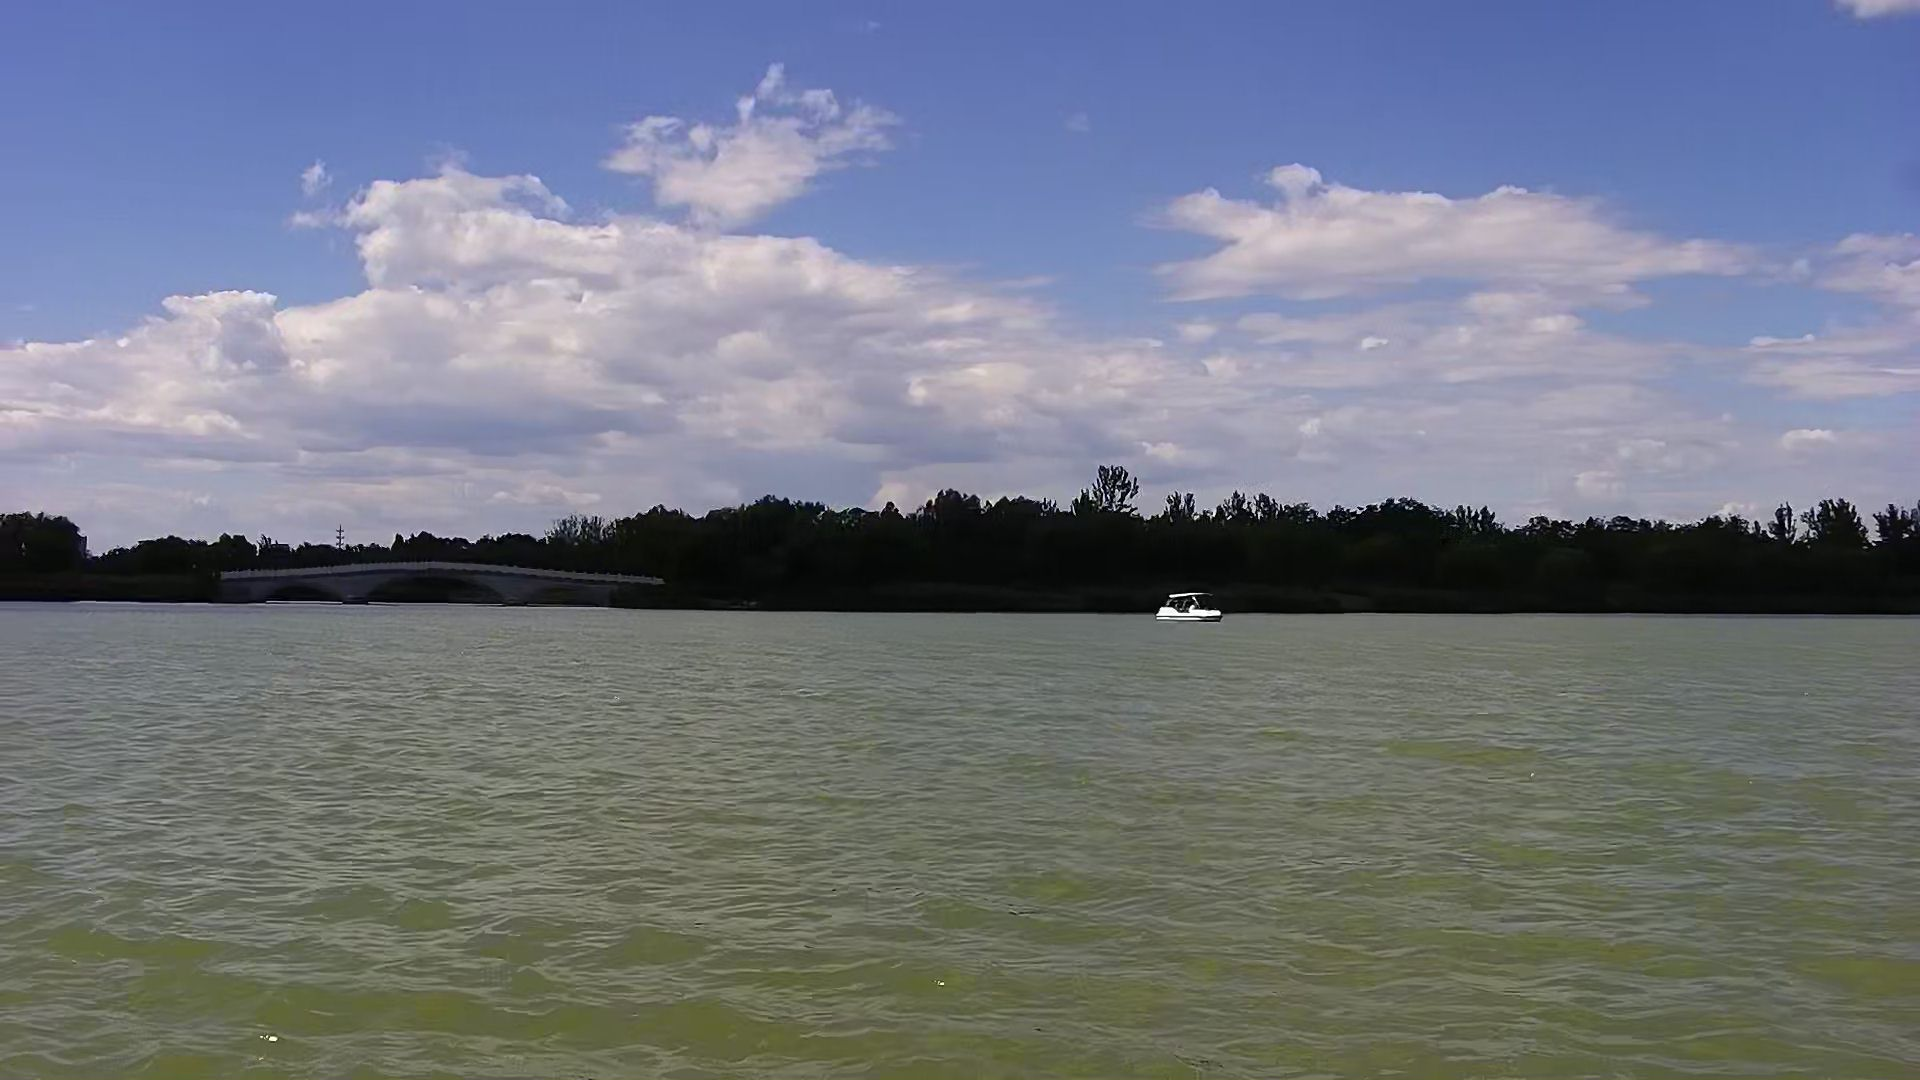boat: (1151, 585, 1232, 626)
bridge: (214, 550, 675, 615)
